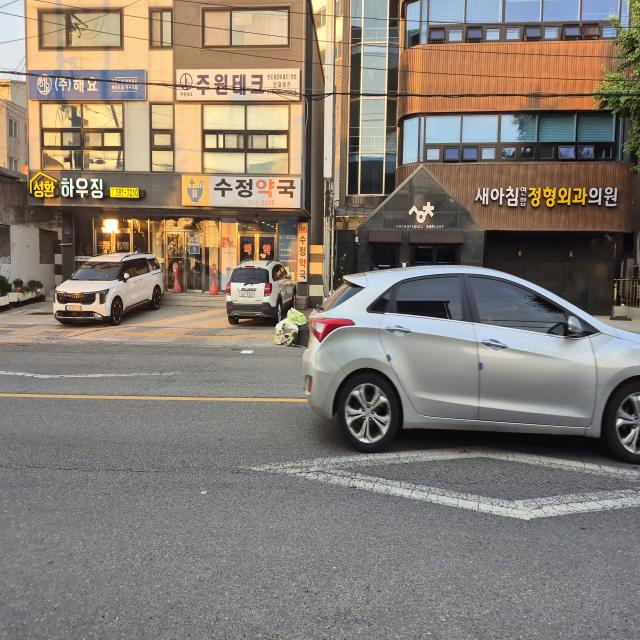car: (318, 264, 630, 458), (54, 250, 166, 326), (225, 256, 298, 324)
